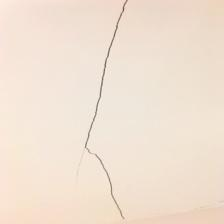Medium: (71, 4, 147, 221)
